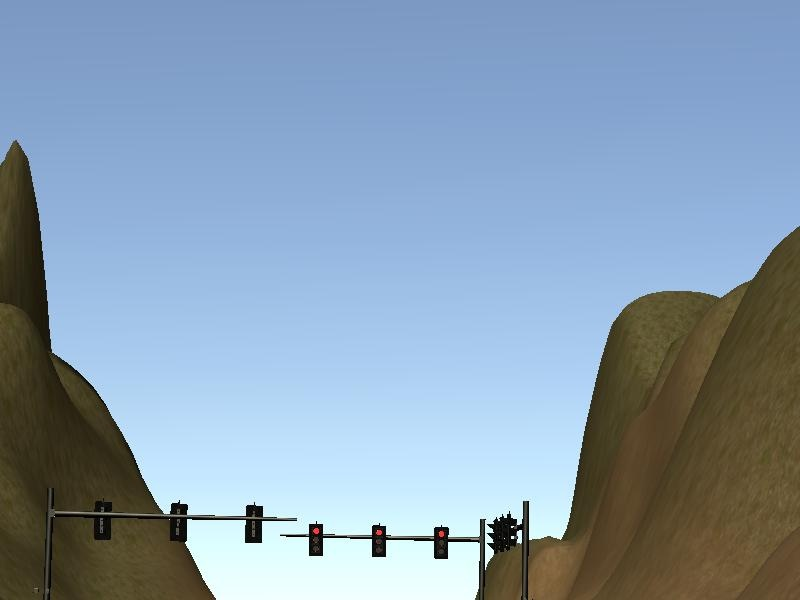Red: (434, 527, 448, 559), (372, 525, 386, 557), (309, 524, 323, 556)
